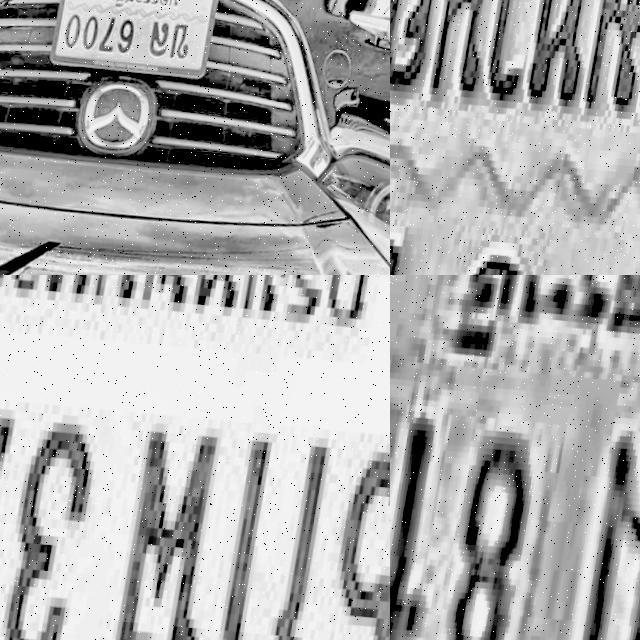license-plate: (0, 275, 390, 640), (390, 275, 640, 640), (390, 0, 640, 275), (47, 0, 223, 83)
